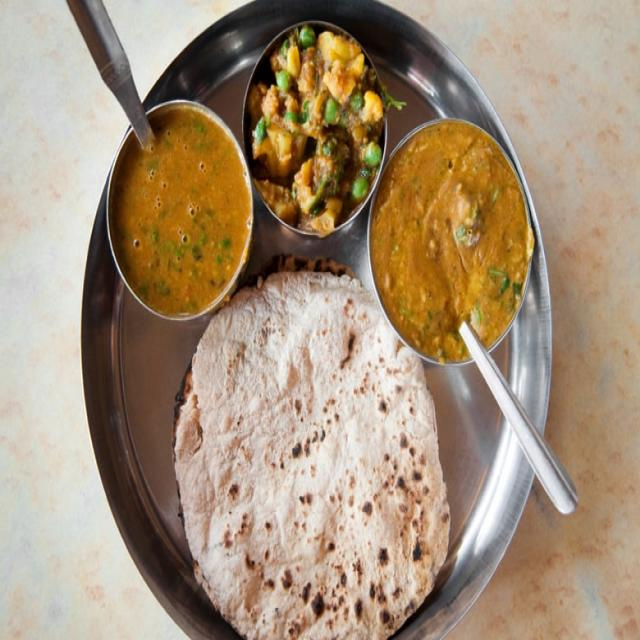roti: (171, 276, 447, 640)
